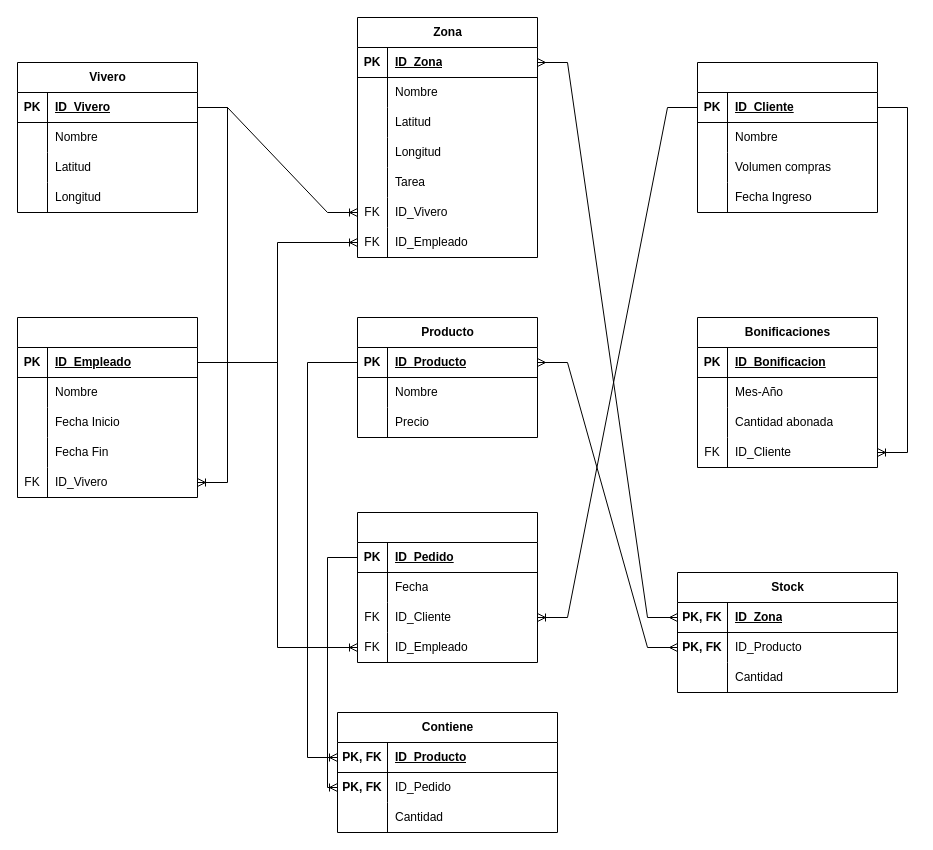
Image size: 933x850. Some labels were removed from this diagram. Each missing label, with the box of its shape:
Cliente Tajinaste Plus: (696, 62, 878, 212)
Empleados: (16, 316, 198, 498)
Pedidos: (356, 512, 538, 662)
